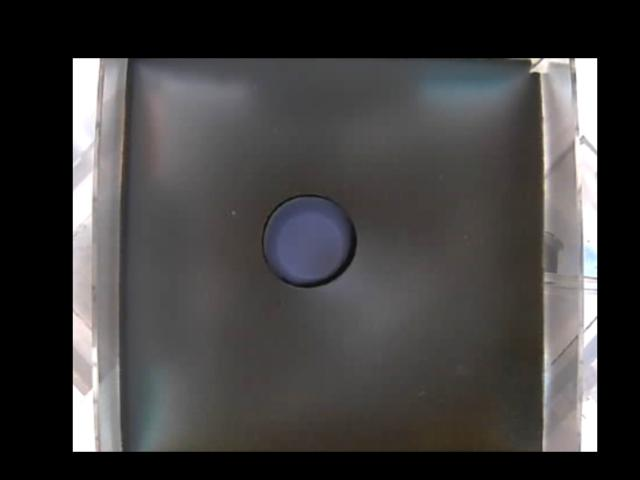Cup: (262, 193, 358, 287)
